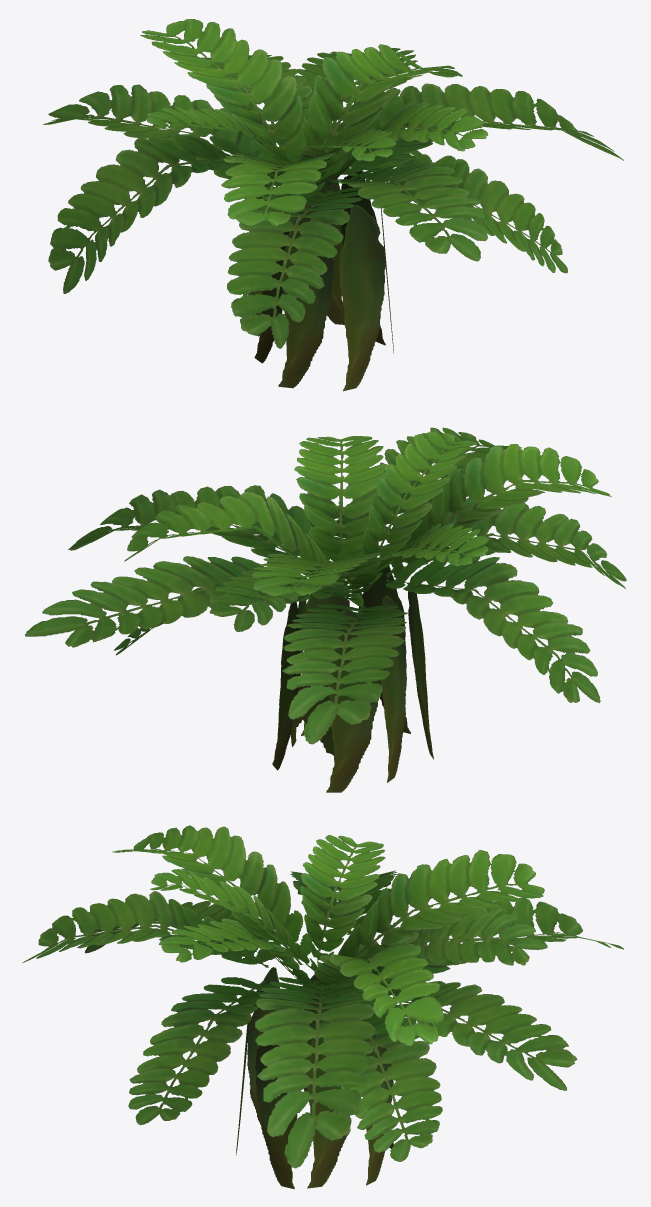
Rendered from scene_lawennushandao_zhiwu01.FBX.
The picture shows the model from 3 angles, top to bottom: view 1: azimuth 30°, elevation 25°; view 2: azimuth 150°, elevation 25°; view 3: azimuth 270°, elevation 25°; orthographic projection.
Parts seen in each view (by area): view 1: scene_lawennushandao_zhiwu01; view 2: scene_lawennushandao_zhiwu01; view 3: scene_lawennushandao_zhiwu01.
Boxes of the visible parts, x1=… form: scene_lawennushandao_zhiwu01: x1=43, y1=19, x2=623, y2=391; scene_lawennushandao_zhiwu01: x1=25, y1=427, x2=626, y2=792; scene_lawennushandao_zhiwu01: x1=22, y1=825, x2=623, y2=1189.
Bounding box in the file's own units: 188 × 88.05 × 182.
